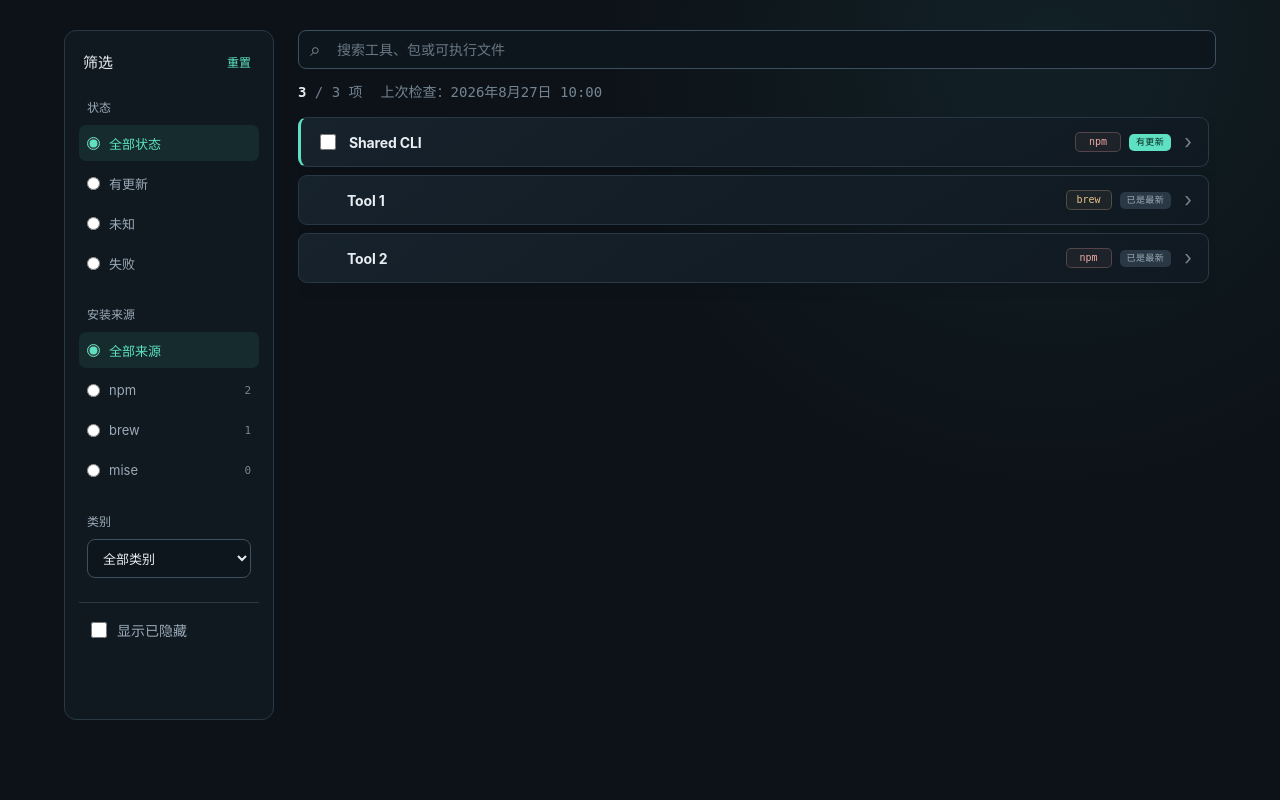
Test: ToolsView › keeps non-search filters in the sidebar and includes registered sources without installations
Expected: the element named "工具筛选" shows "类别", [87,514,111,529]
Expected: the element named "工具筛选" shows "显示已隐藏", [117,622,187,639]
Step 1. Click the radio button named "tool-provider" → (94, 470), box [87,464,100,476]
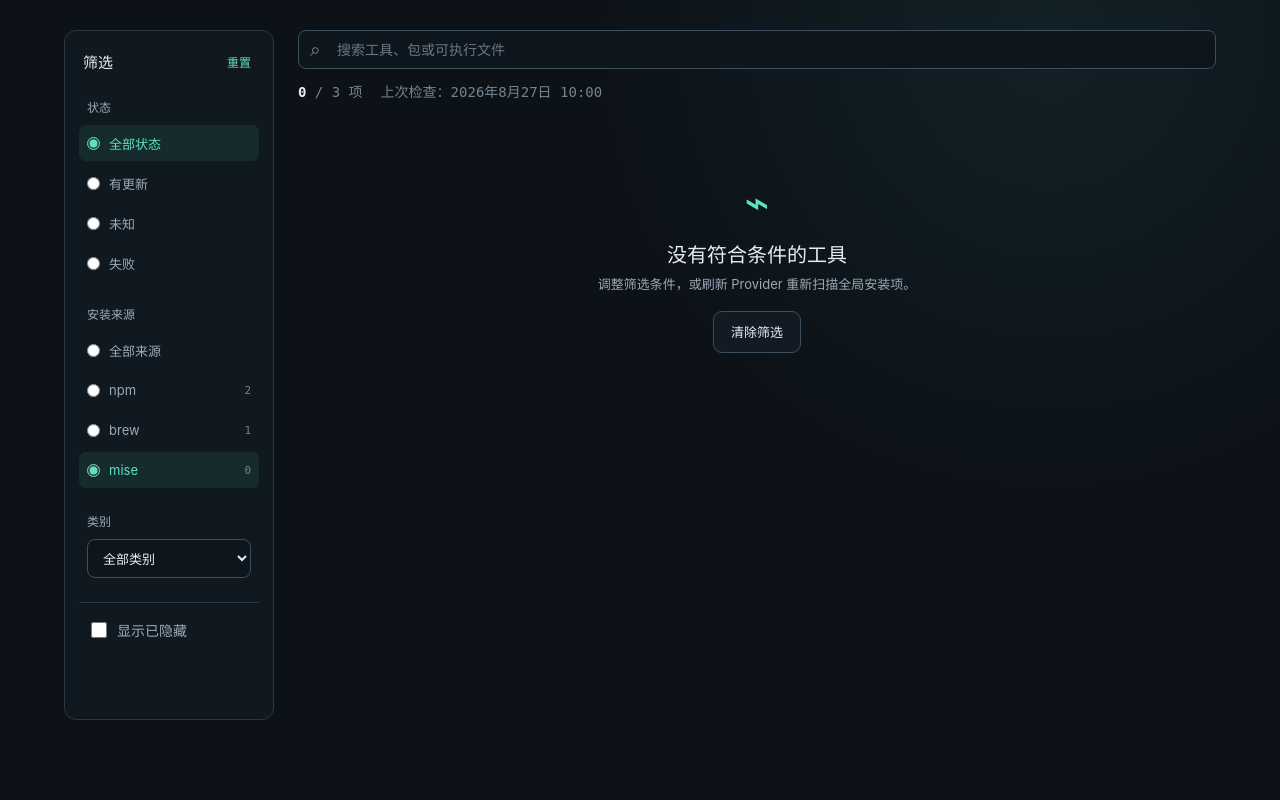
Expected: the text "0 / 3 项" is shown, [298,83,363,103]
Step 2. Click the button "重置" → (239, 62), box [223,49,255,74]
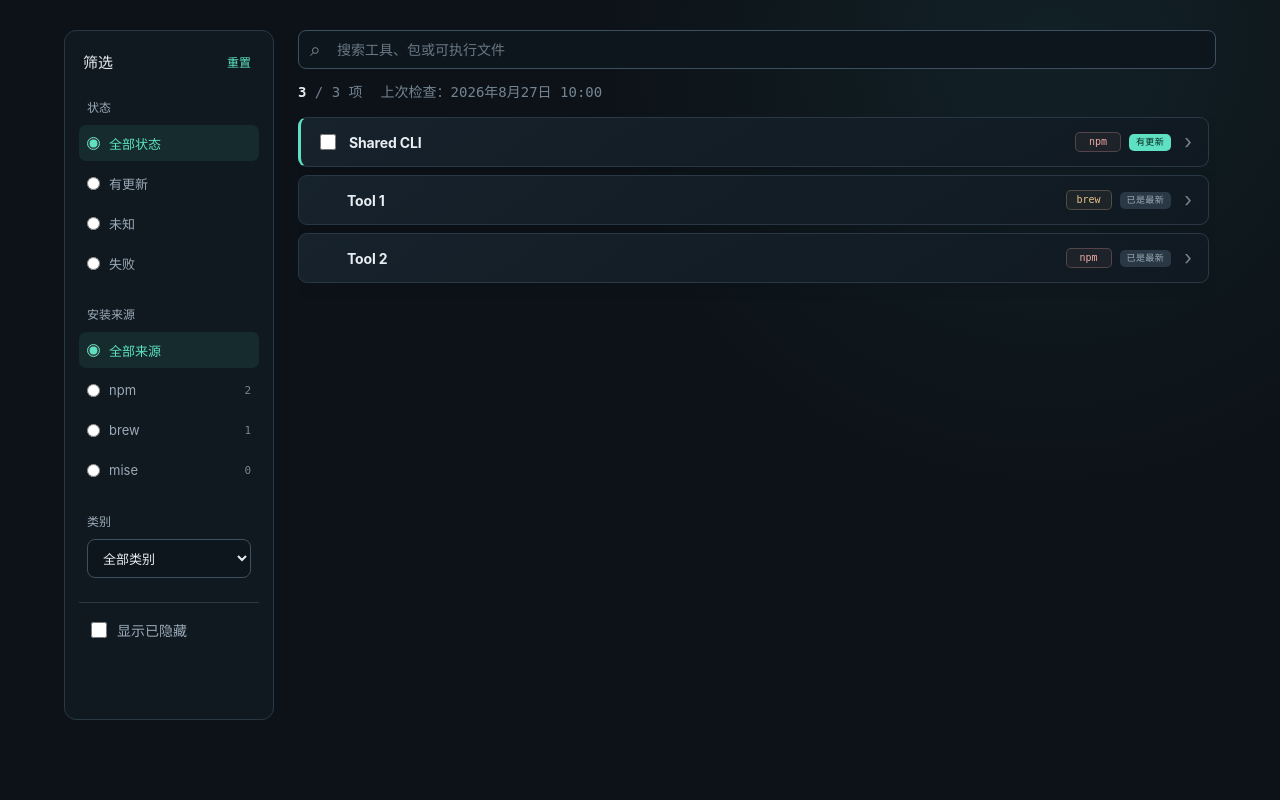
Expected: the text with class "source-badge" reads "npm", [109,382,136,398]
Expected: the text "3 / 3 项" is shown, [298,83,363,103]
